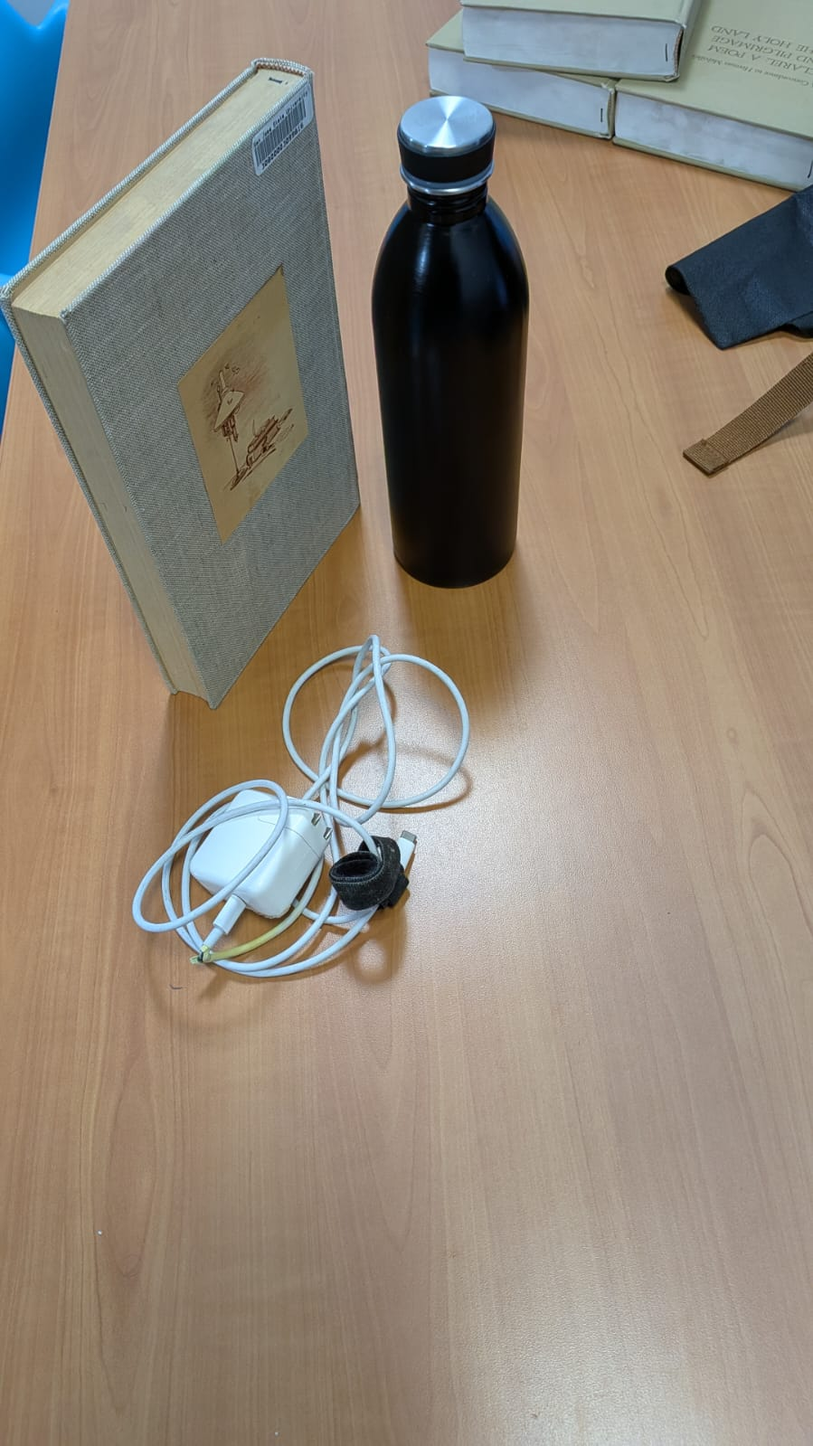book: (2, 57, 362, 708)
bottle: (370, 94, 531, 587)
charger: (131, 635, 469, 980)
